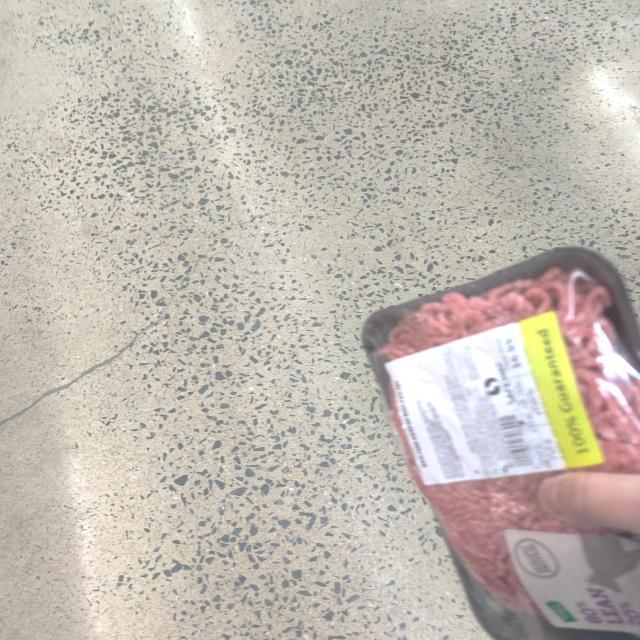Meat: (349, 279, 640, 640)
